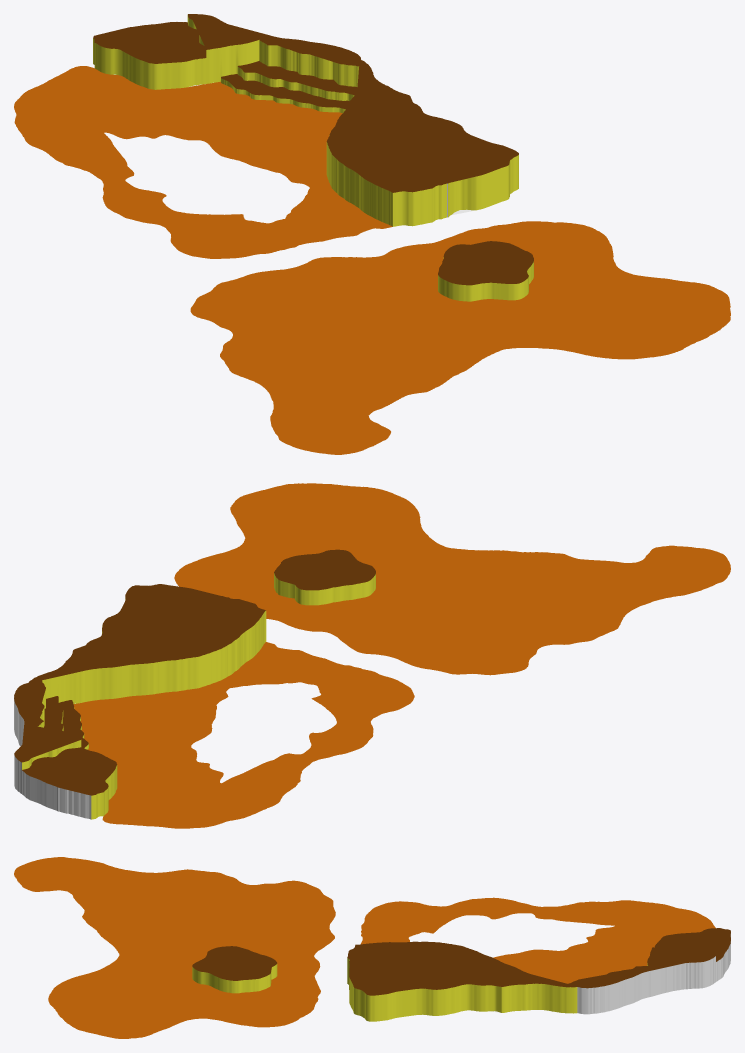
The model's file is incilanin_leveli7.fbx.
3 renders of one model, top to bottom at view 1: azimuth 30°, elevation 25°; view 2: azimuth 150°, elevation 25°; view 3: azimuth 270°, elevation 25°, orthographic. The views are drawn at different scales.
Parts seen in each view (by area): view 1: Model; view 2: Model; view 3: Model.
Boxes of the visible parts, <box> form: Model: <box>14,14,730,454</box>; Model: <box>14,483,730,828</box>; Model: <box>14,857,730,1038</box>.
Size of the model in its own units: 3.14 by 0.21 by 5.22.
